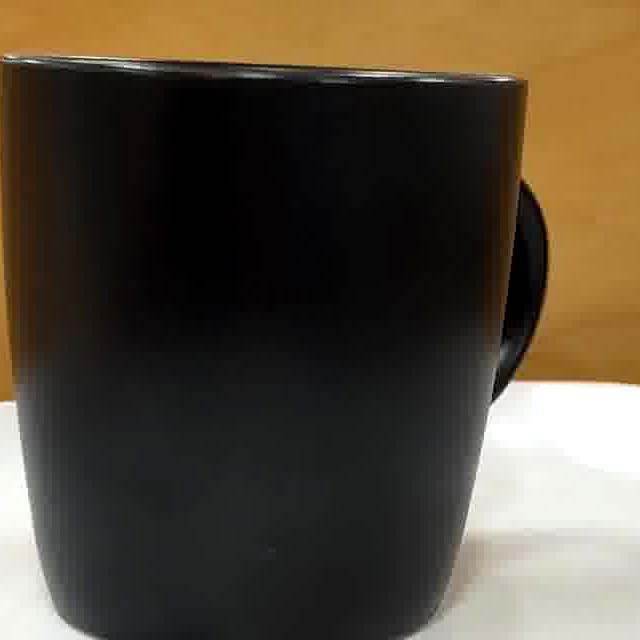cup: (8, 64, 523, 640)
